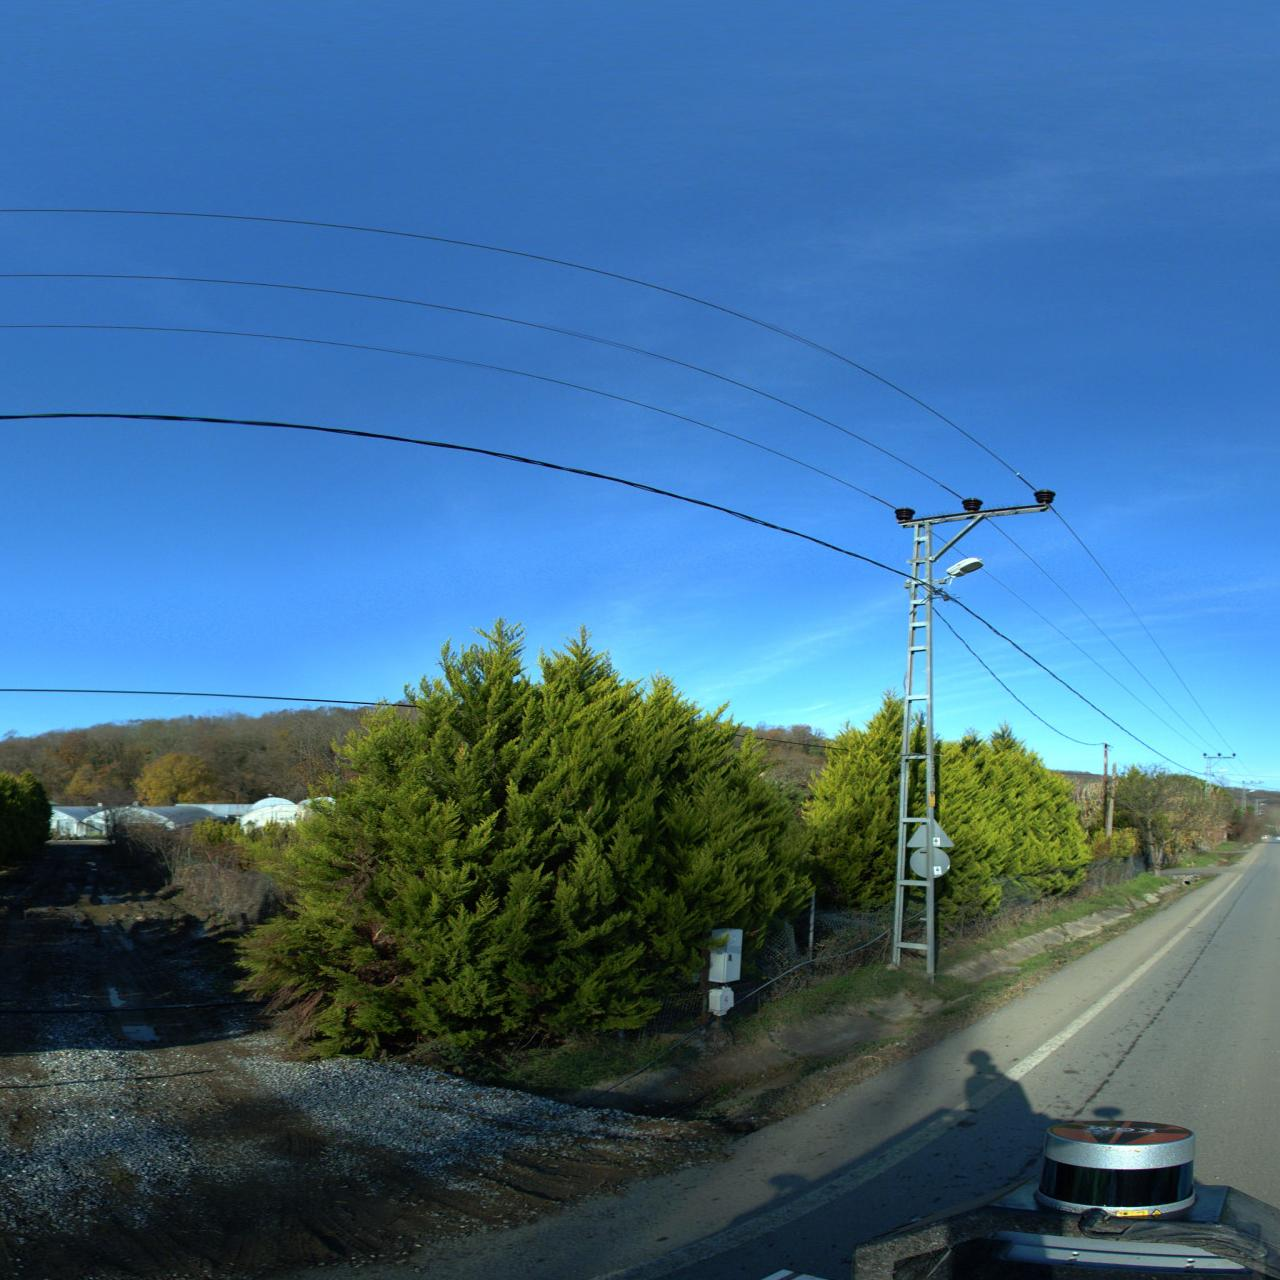Utility Pole Information Plate: (930, 794, 935, 808)
